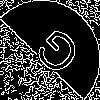G: (25, 25, 84, 85)
